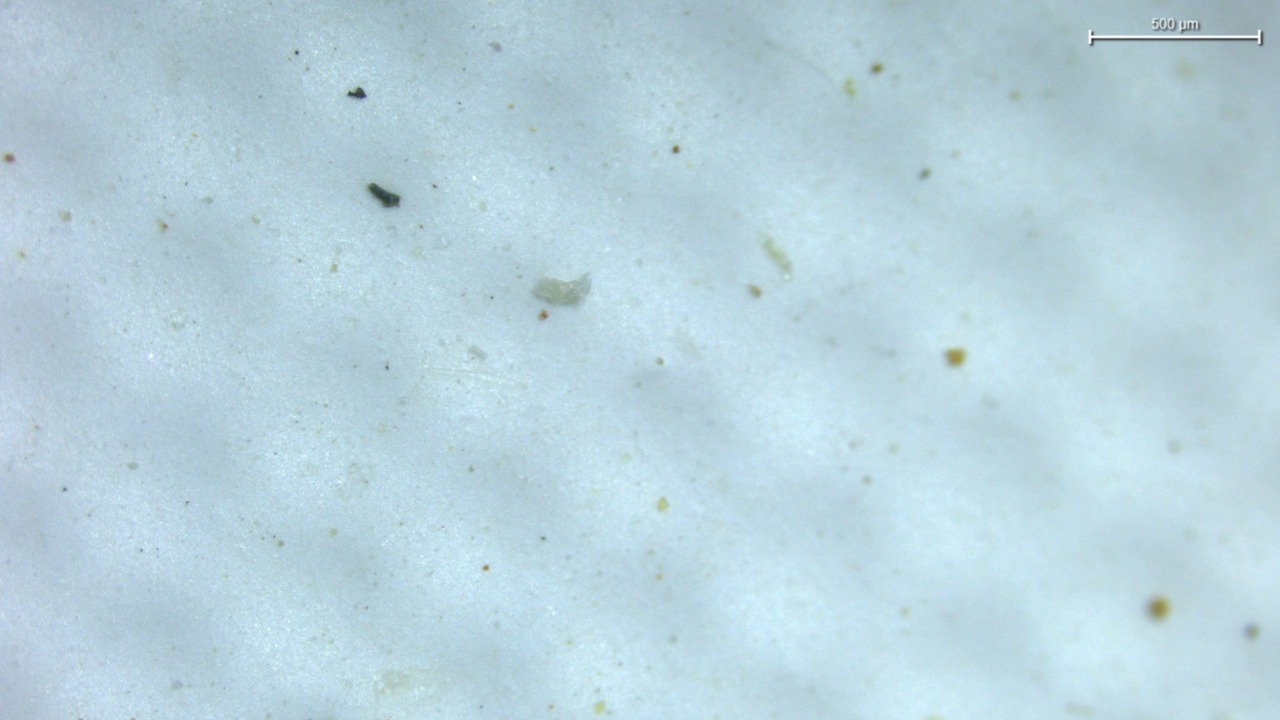microplastic_fragment: (534, 272, 591, 305)
